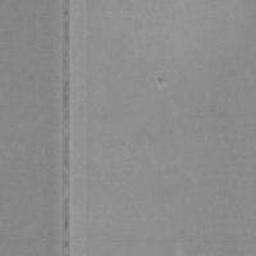Welding line: (60, 0, 72, 256)
